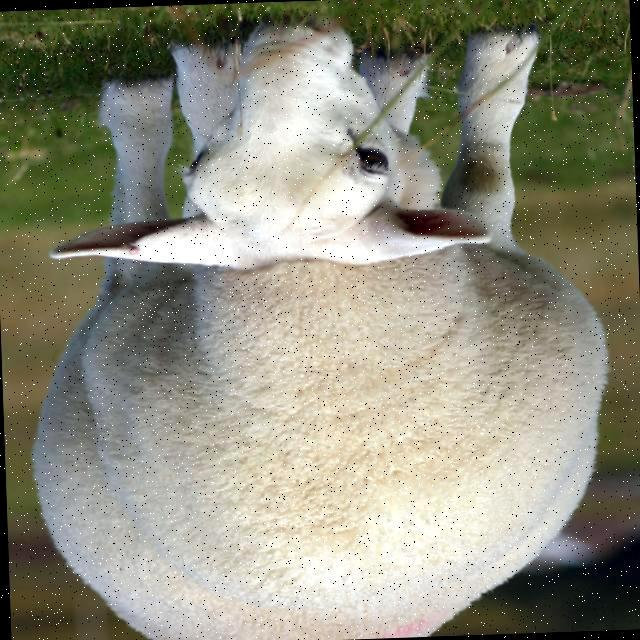sheep: (31, 20, 610, 640)
